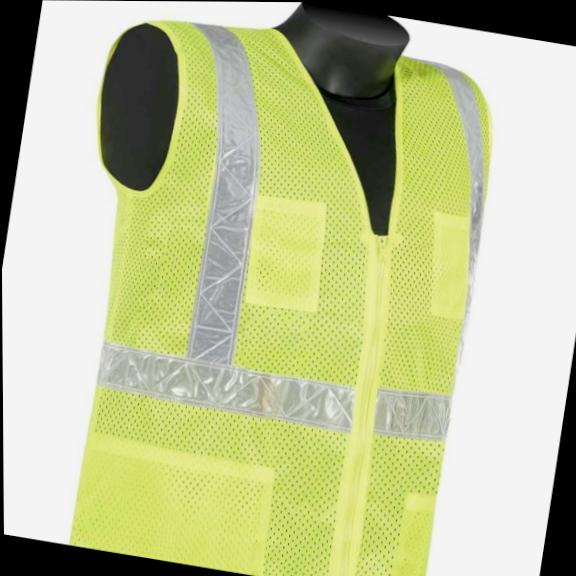safety_vest: (29, 0, 511, 576)
